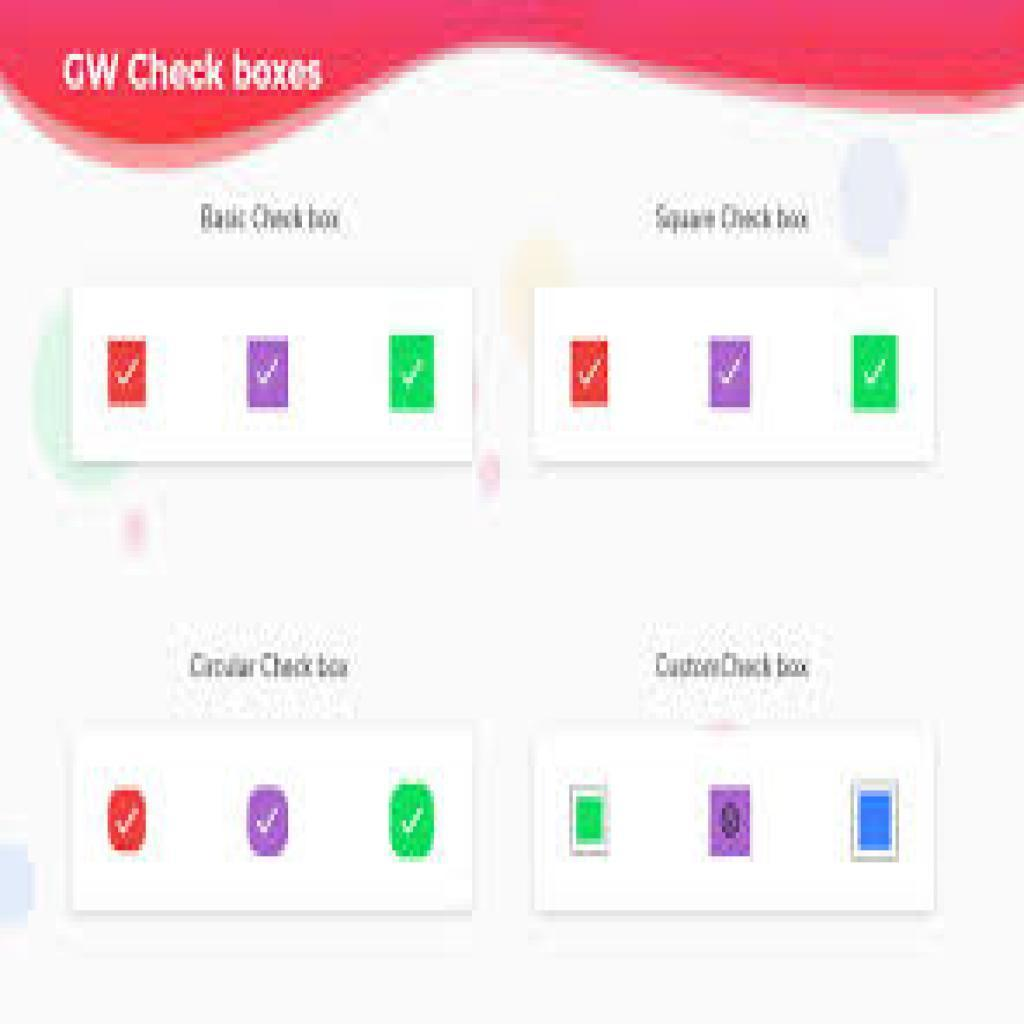checkbox: (388, 782, 438, 859), (243, 784, 291, 860), (104, 784, 152, 859), (853, 336, 899, 412), (391, 337, 436, 414), (104, 338, 149, 405), (247, 338, 289, 408), (709, 788, 751, 858), (711, 338, 749, 412), (571, 789, 609, 856), (573, 342, 611, 407), (857, 789, 896, 852)
